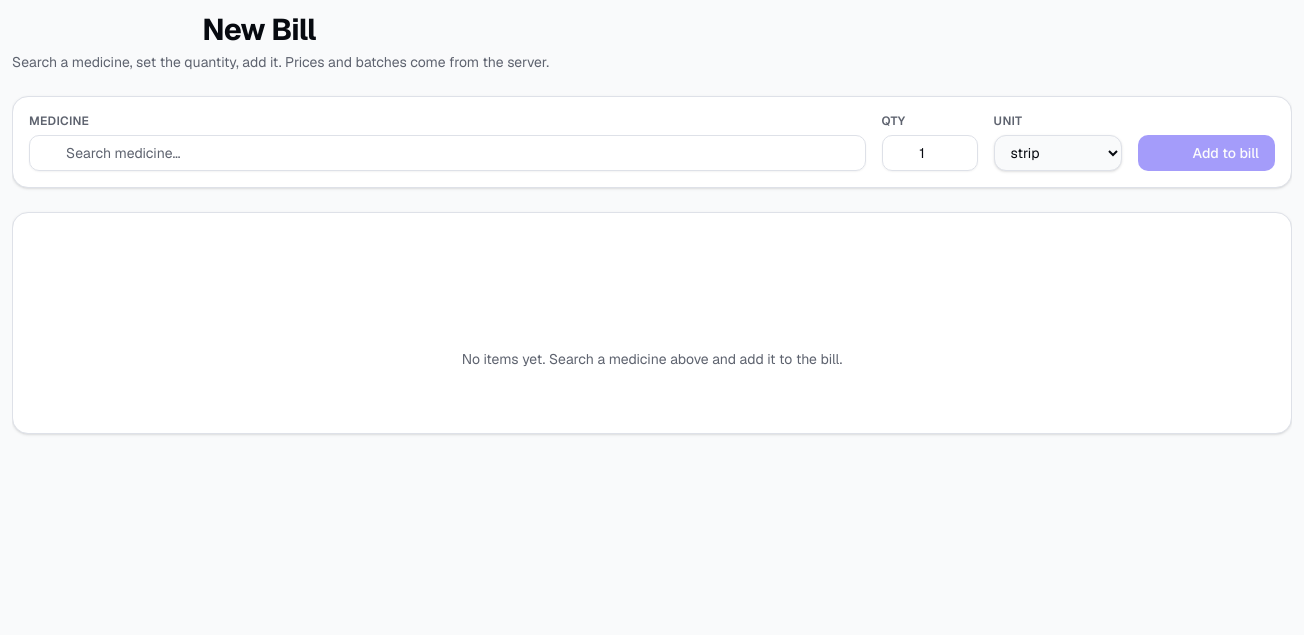
it: days supply field › pre-fills from the medicine's catalogue default
This screenshot has width=1304, height=635.
Type "Crocin" into the dropdown with placeholder "Search medicine…" at (447, 153), box [29,135,866,171]
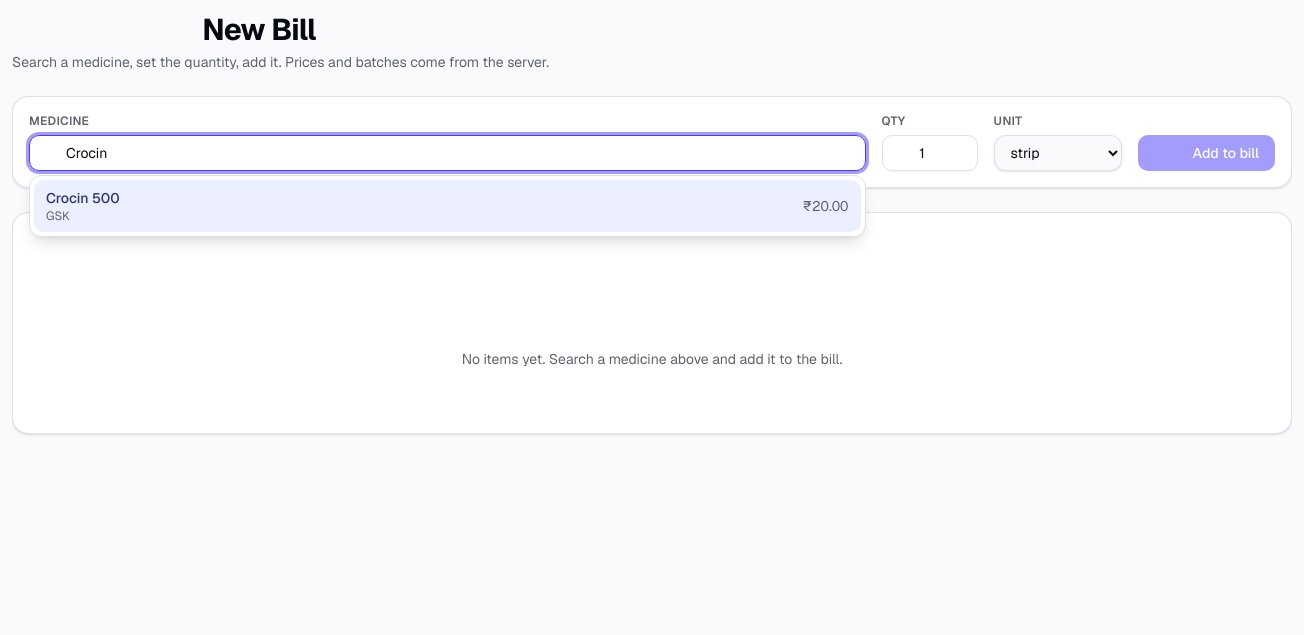
Click the text "Crocin 500" at (83, 198), box [46,189,120,207]
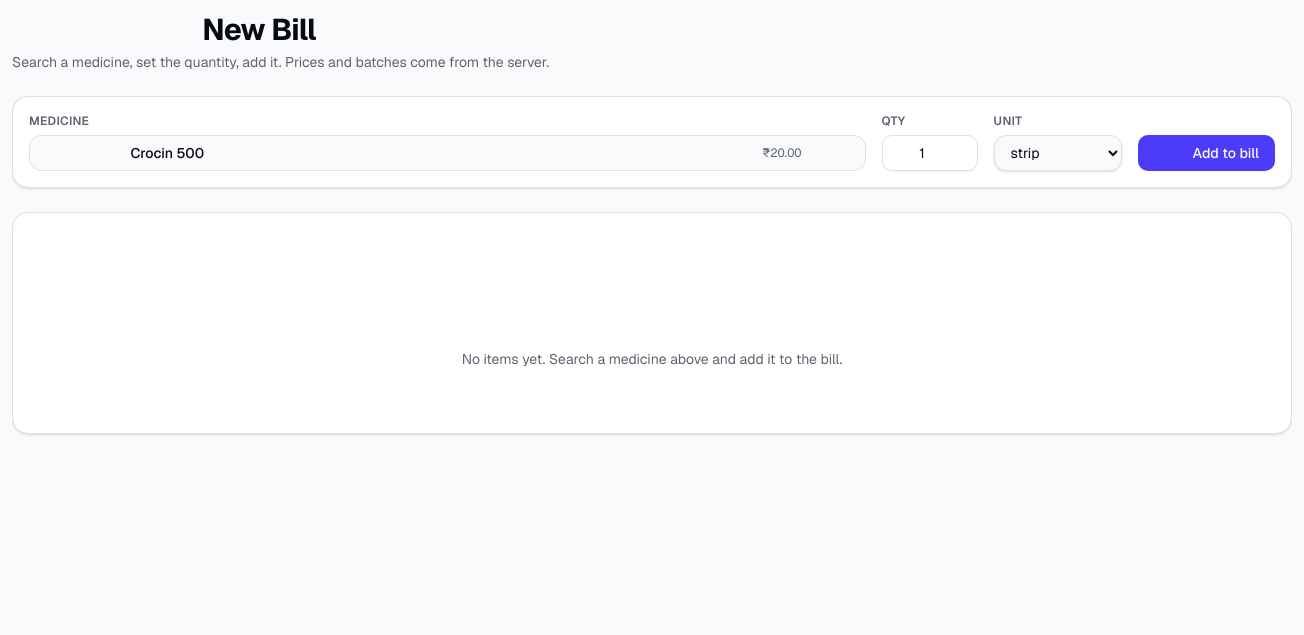
Click the button "Add to bill" at (1206, 153), box [1138,135,1275,171]
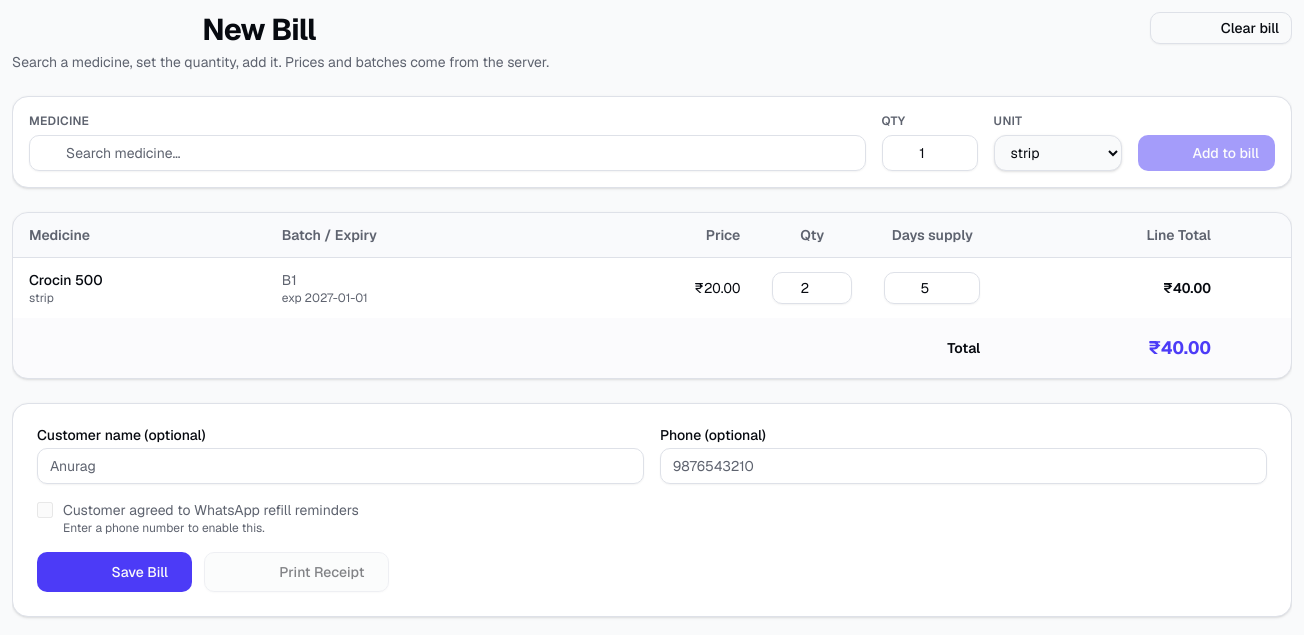
Now the number field named "Days supply for Crocin 500" holds "5", box [884,272,980,304]
